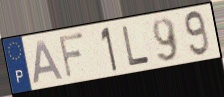1: (100, 25, 119, 73)
9: (184, 8, 212, 60), (152, 16, 180, 63)
A: (31, 38, 65, 85)
F: (57, 30, 86, 80)
L: (120, 24, 152, 68)
